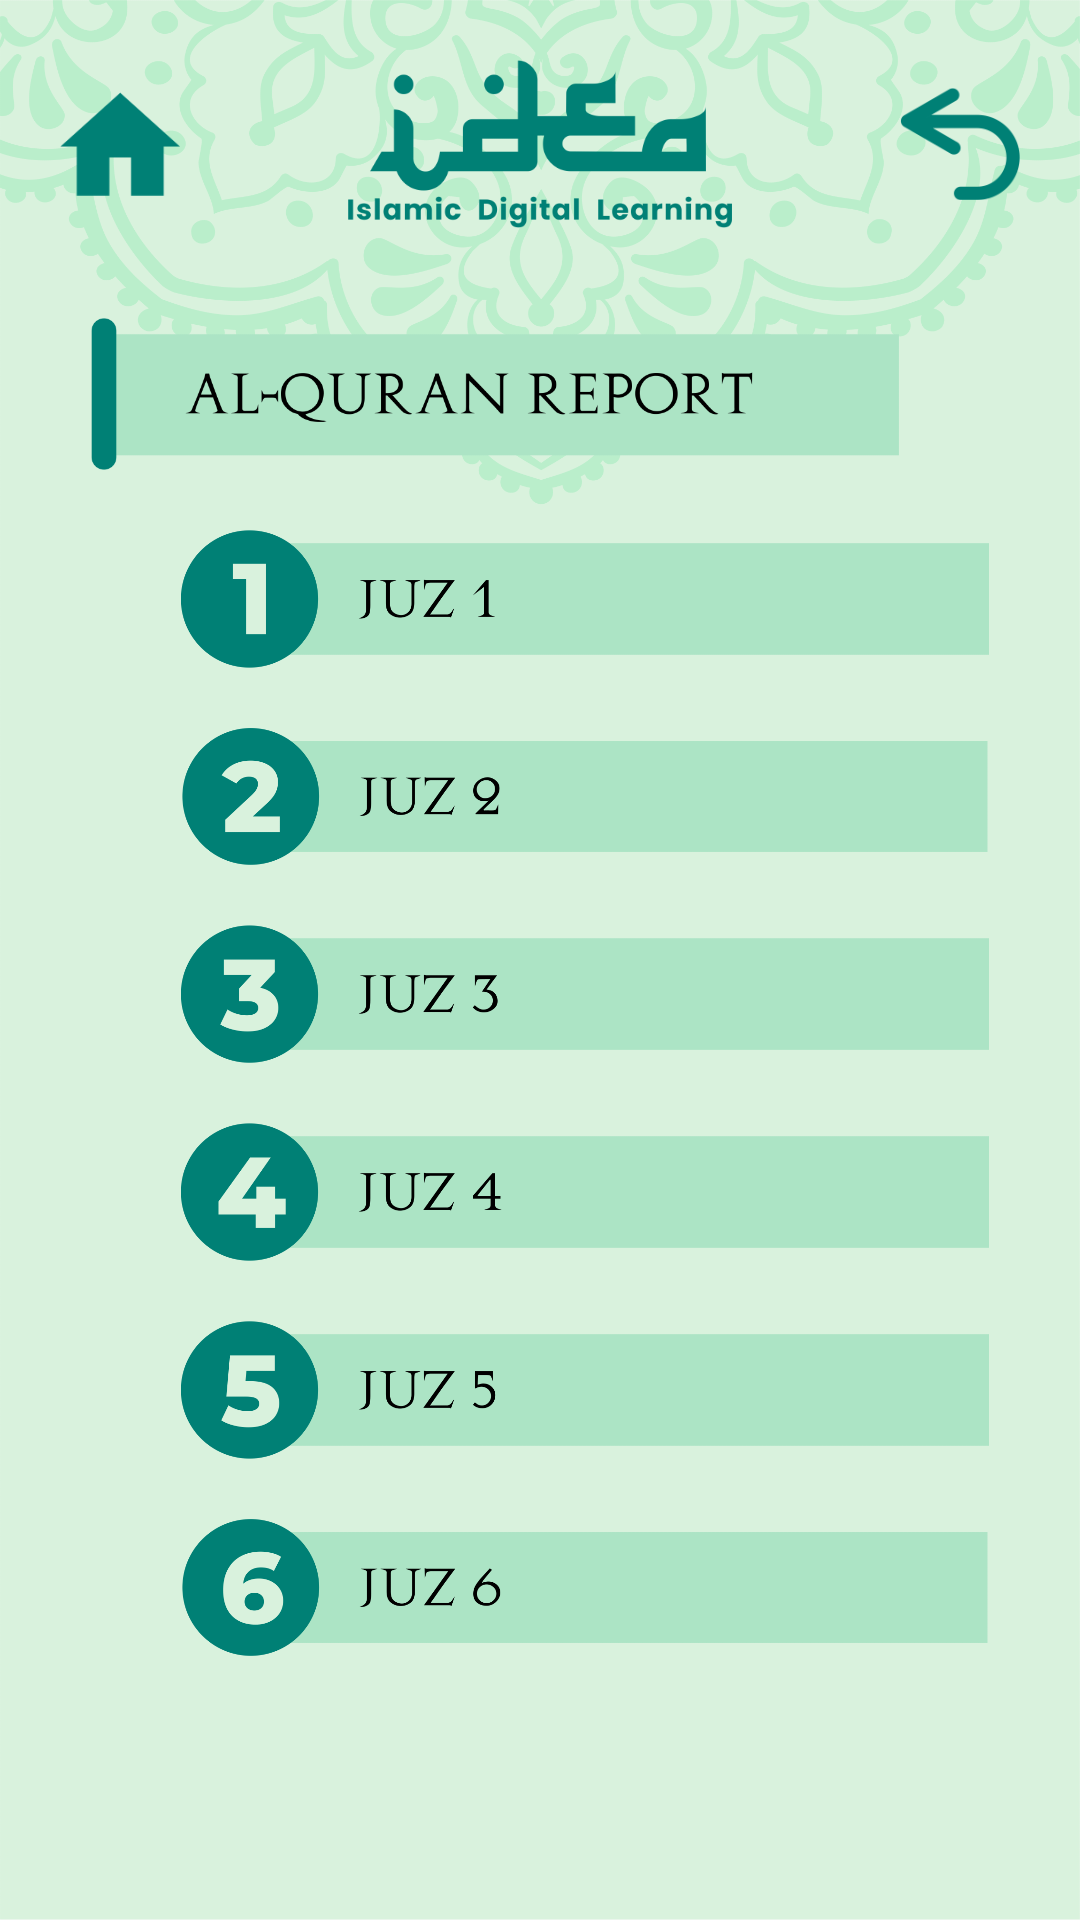

Locate icon controls on the screen. Image size 1080w x 1920h, boxes as (x1, y1, x2, y2).
back: (900, 84, 1020, 204)
home: (60, 84, 180, 204)
